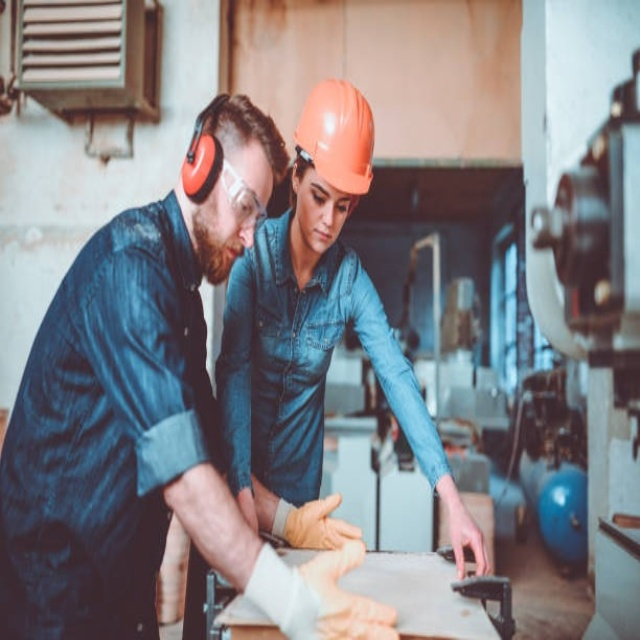Gafas: (219, 155, 270, 232)
Guantes: (295, 539, 396, 636), (277, 491, 363, 552)
Sin_gafas: (306, 177, 350, 220)
Sin_guantes: (443, 495, 491, 583)
Sin_mascara: (216, 234, 246, 282), (307, 221, 338, 251)
